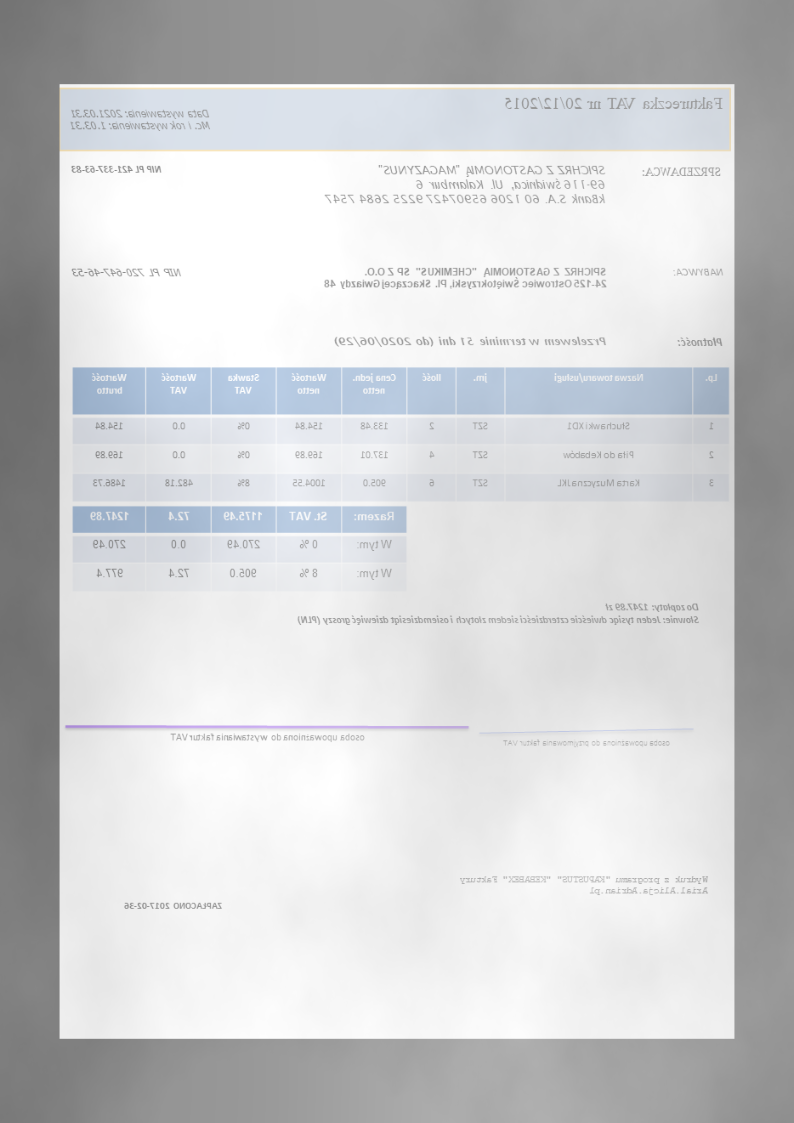Table: (72, 366, 731, 501), (71, 505, 408, 593)
TextBox: (322, 162, 610, 208), (297, 599, 701, 628), (322, 264, 610, 292), (457, 874, 712, 896), (68, 105, 212, 134), (503, 94, 724, 112), (333, 334, 608, 348), (168, 731, 367, 745), (502, 736, 672, 748), (71, 265, 184, 280), (69, 161, 164, 176), (640, 164, 724, 180), (123, 899, 225, 911), (677, 334, 725, 349), (672, 265, 725, 278)
